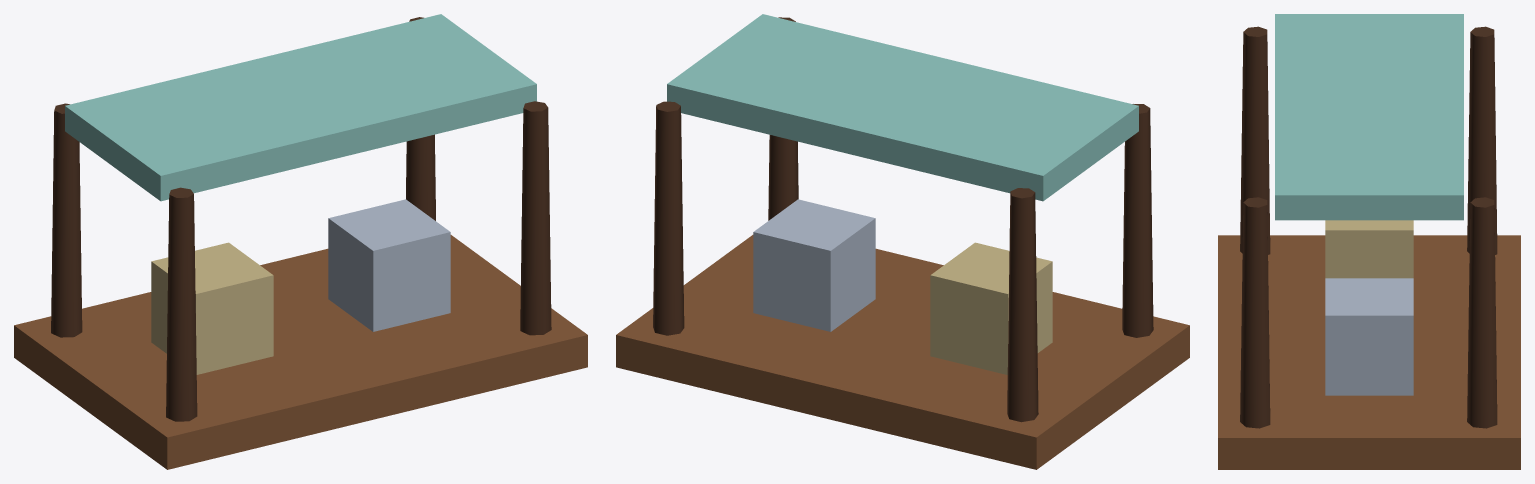
File: festival_stage.glb
3 renders of one model, left to right at view 1: azimuth 30°, elevation 25°; view 2: azimuth 150°, elevation 25°; view 3: azimuth 270°, elevation 25°, orthographic.
Visible parts, largest first — view 1: platform, top, detail_b, detail_a, post_3, post_2, post_0, post_1; view 2: platform, top, detail_b, detail_a, post_0, post_1, post_2, post_3; view 3: platform, top, detail_b, post_1, post_3, detail_a, post_0, post_2.
Boxes of the visible parts, x1,y1,x2,y2 form: platform: [14, 235, 587, 469]; top: [65, 14, 536, 201]; detail_b: [328, 199, 450, 331]; detail_a: [151, 242, 273, 374]; post_3: [520, 101, 551, 335]; post_2: [166, 187, 197, 421]; post_0: [51, 103, 82, 337]; post_1: [406, 17, 435, 220]; platform: [616, 235, 1189, 469]; top: [667, 14, 1138, 201]; detail_b: [753, 199, 875, 331]; detail_a: [930, 242, 1052, 374]; post_0: [1007, 188, 1038, 422]; post_1: [653, 101, 684, 335]; post_2: [1122, 104, 1153, 337]; post_3: [768, 17, 798, 220]; platform: [1218, 235, 1520, 469]; top: [1275, 14, 1463, 220]; detail_b: [1325, 278, 1413, 395]; post_1: [1467, 197, 1497, 428]; post_3: [1240, 197, 1270, 428]; detail_a: [1325, 220, 1413, 278]; post_0: [1467, 26, 1497, 254]; post_2: [1240, 26, 1270, 254].
Size of what is drawn, in the model's own units: 3.8 by 2.31 by 2.4.
